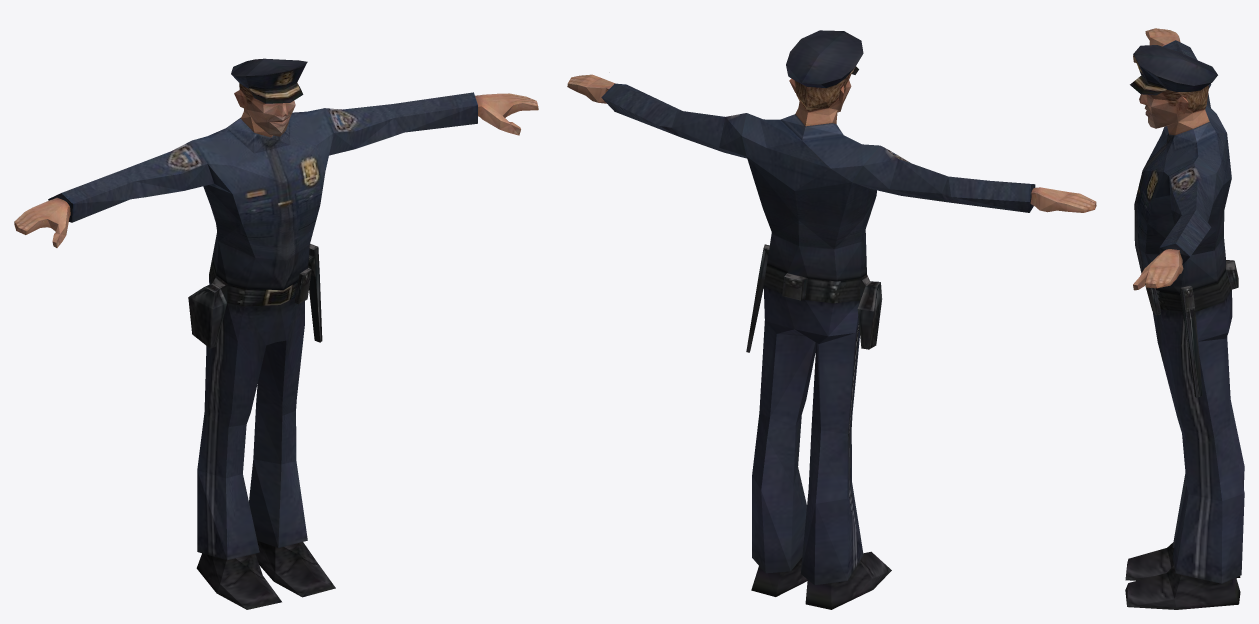
The model's file is J0Q8BPZ6MB8PP016UIMBKZM0G.gltf.
The picture shows the model from 3 angles, left to right: view 1: azimuth 30°, elevation 25°; view 2: azimuth 150°, elevation 25°; view 3: azimuth 270°, elevation 25°; orthographic projection.
Bounding box in the file's own units: 2.43 × 2.5 × 0.4784.
Materials: 2 (2 with a texture image).
